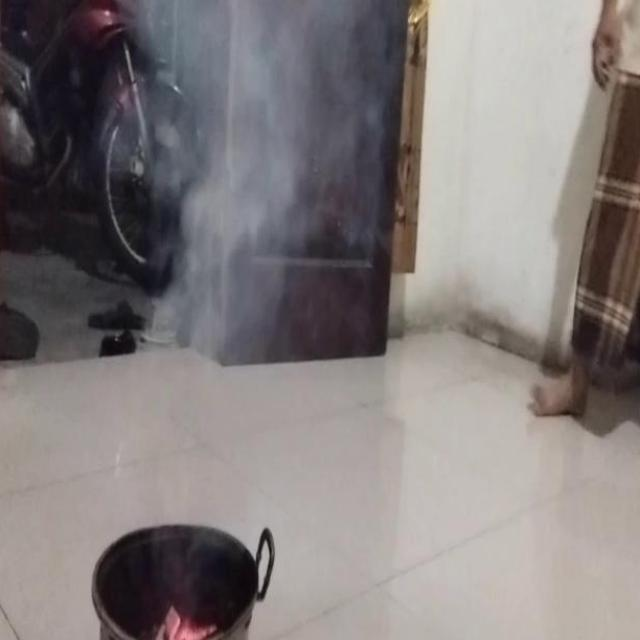fire: (116, 0, 389, 383)
